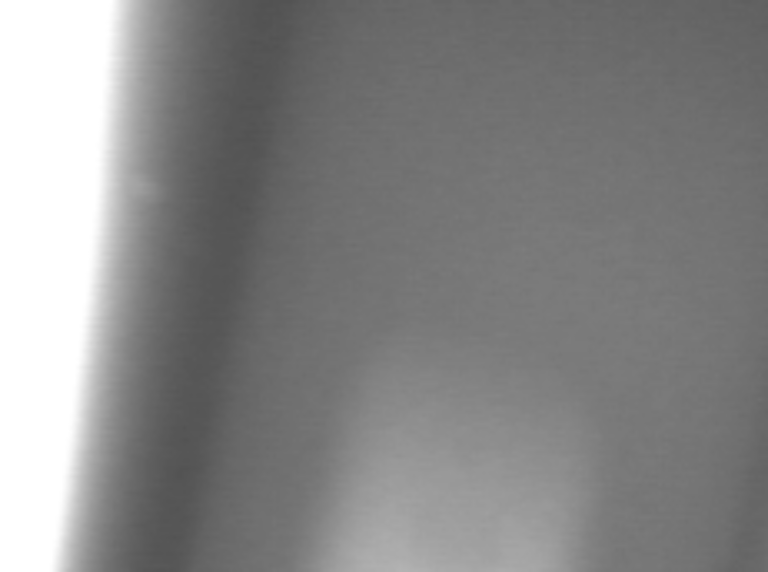defect: (126, 170, 166, 207)
